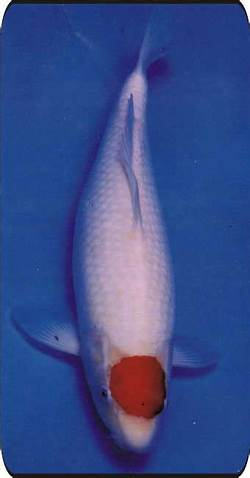sun: (11, 20, 216, 453)
